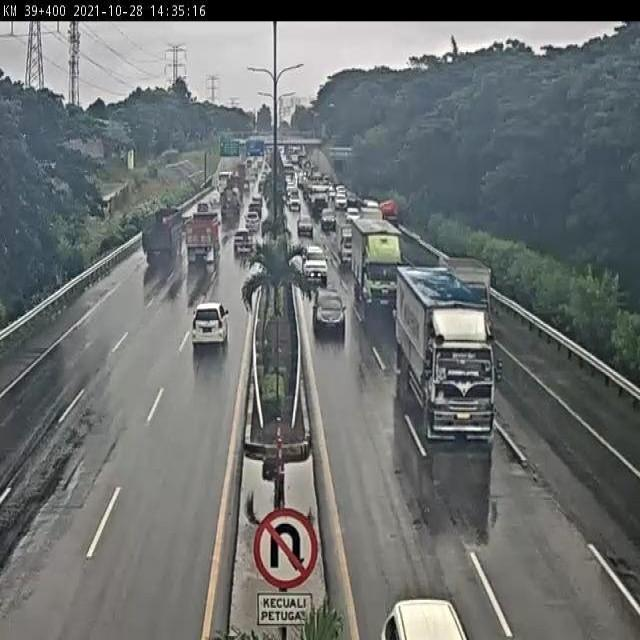big truck: (395, 268, 498, 453), (353, 219, 401, 312), (154, 201, 181, 264), (318, 287, 350, 337), (192, 208, 219, 265), (224, 182, 243, 214)
car: (382, 589, 480, 640), (196, 307, 229, 352), (306, 242, 324, 278), (338, 228, 356, 260), (297, 212, 315, 237), (248, 209, 262, 235), (323, 204, 336, 231), (233, 234, 253, 250), (289, 193, 300, 212), (349, 208, 356, 223)
